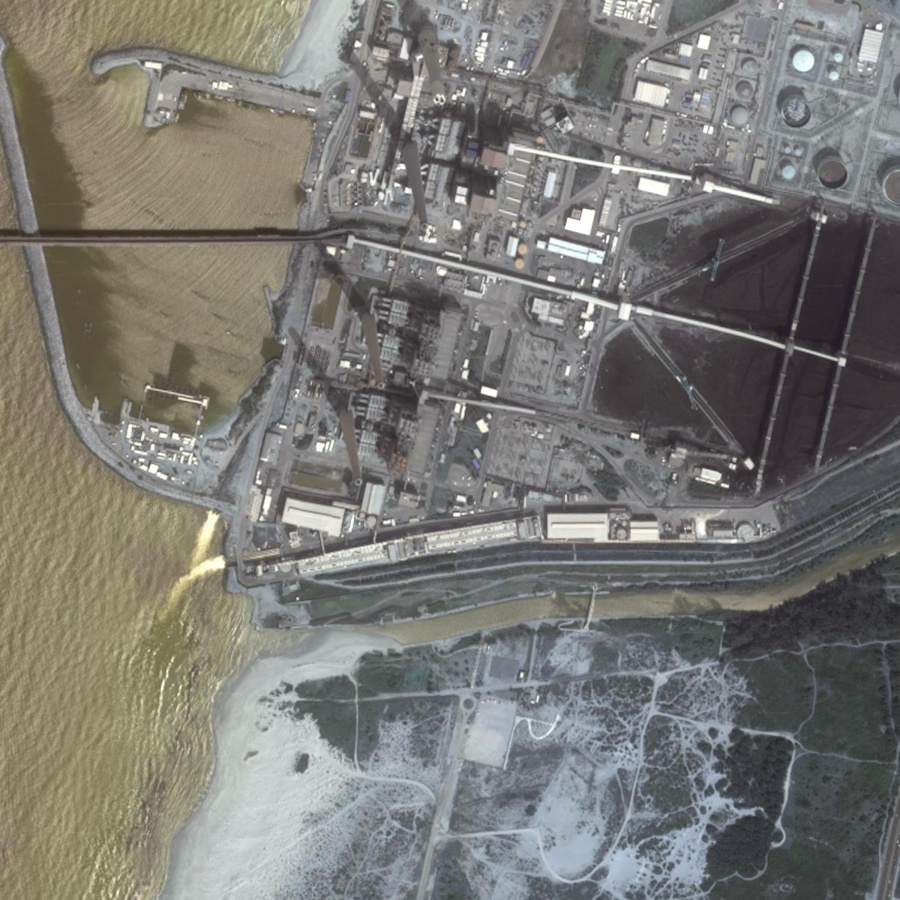PowerPlant: (255, 72, 516, 493)
